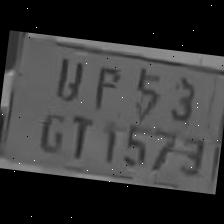1: (92, 117, 120, 164)
3: (162, 66, 199, 124), (172, 128, 208, 178)
5: (124, 61, 164, 122), (117, 119, 150, 169)
7: (144, 124, 178, 174)
G: (31, 104, 70, 158)
P: (84, 56, 123, 112)
T: (61, 106, 97, 162)
U: (50, 49, 86, 104)
